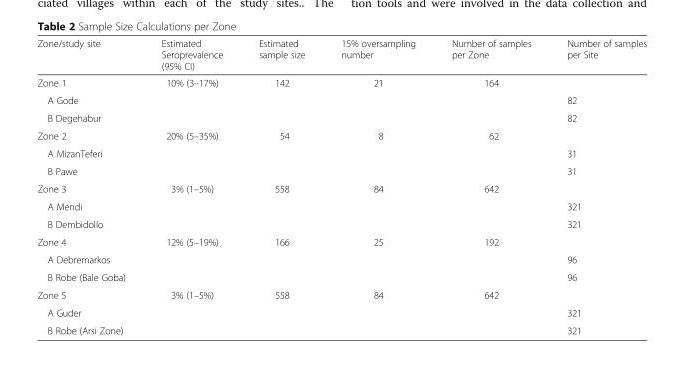table: (36, 37, 646, 335)
table column: (433, 37, 548, 335), (322, 37, 433, 335), (36, 37, 142, 335), (142, 37, 240, 335), (548, 37, 646, 335), (240, 37, 322, 335)
table column header: (36, 37, 646, 73)
table row: (36, 37, 646, 73), (36, 73, 646, 91), (36, 108, 646, 126), (36, 126, 646, 144), (36, 161, 646, 179), (36, 179, 646, 197), (36, 214, 646, 232), (36, 232, 646, 250), (36, 250, 646, 268), (36, 285, 646, 303), (36, 303, 646, 321), (36, 91, 646, 108), (36, 144, 646, 161), (36, 197, 646, 214), (36, 268, 646, 285), (36, 321, 646, 335)
